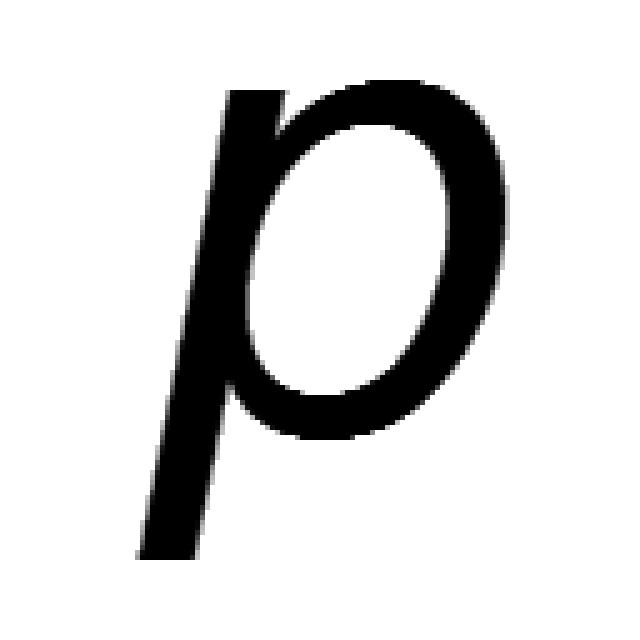P: (135, 80, 510, 565)
